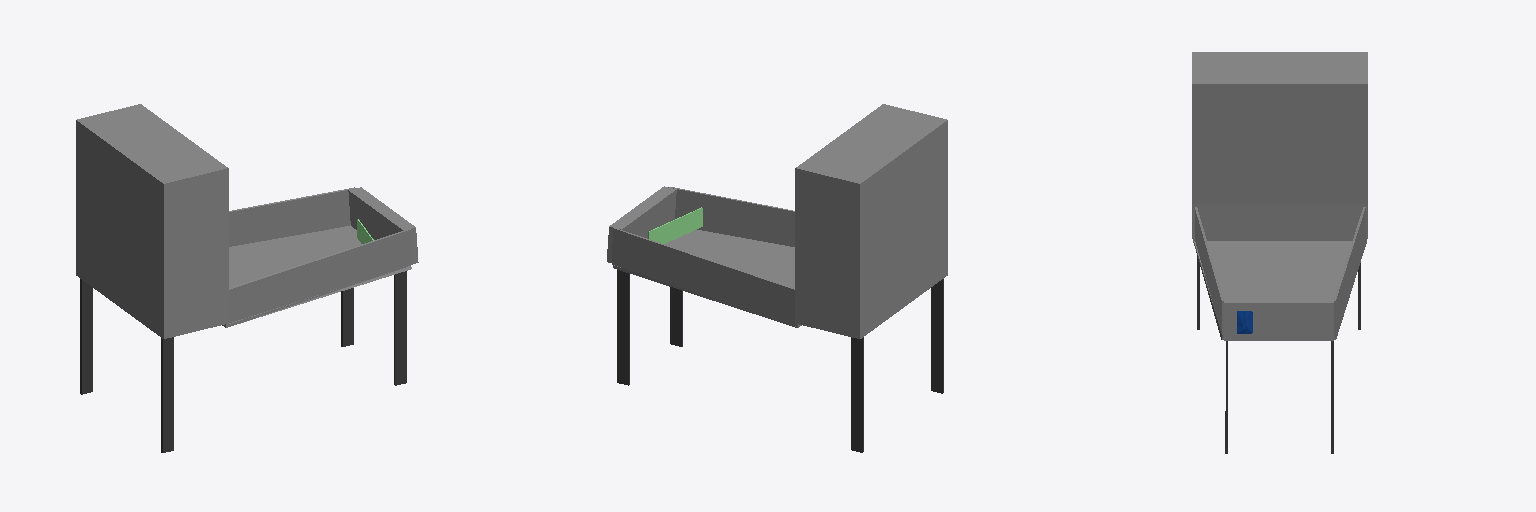
Rendered from maquinaPinball2.obj.
3 views of the same model, side by side, from view 1: azimuth 30°, elevation 25°; view 2: azimuth 150°, elevation 25°; view 3: azimuth 270°, elevation 25° (orthographic).
Visible parts, largest first — view 1: Box012, Object004, Object008, Object014, Object006, Object016, Object, Object012, Object002; view 2: Box012, Object014, Object008, Object004, Object006, Object012, Object002, Object016, Box010, Object; view 3: Box012, Object008, Object010, Object006, Object014, Object004.
Part boxes in pixels (left/top/right/bottom): Box012: left=76, top=104, right=228, bottom=338; Object004: left=229, top=228, right=412, bottom=322; Object008: left=222, top=225, right=411, bottom=327; Object014: left=229, top=187, right=355, bottom=246; Object006: left=348, top=187, right=418, bottom=263; Object016: left=161, top=337, right=173, bottom=452; Object: left=394, top=271, right=406, bottom=385; Object012: left=80, top=279, right=92, bottom=394; Object002: left=341, top=288, right=353, bottom=346; Box012: left=795, top=104, right=947, bottom=338; Object014: left=612, top=228, right=795, bottom=326; Object008: left=613, top=229, right=801, bottom=327; Object004: left=668, top=187, right=794, bottom=246; Object006: left=607, top=186, right=676, bottom=262; Object012: left=851, top=337, right=863, bottom=452; Object002: left=617, top=270, right=629, bottom=385; Object016: left=931, top=279, right=943, bottom=393; Box010: left=648, top=207, right=702, bottom=243; Object: left=670, top=287, right=682, bottom=346; Box012: left=1192, top=52, right=1367, bottom=238; Object008: left=1194, top=241, right=1366, bottom=339; Object010: left=1193, top=204, right=1366, bottom=242; Object006: left=1224, top=297, right=1333, bottom=340; Object014: left=1333, top=207, right=1365, bottom=336; Object004: left=1195, top=207, right=1223, bottom=337.
Bounding box in the file's own units: 54.31 × 52.31 × 30.33.